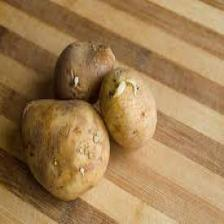Bud: (68, 69, 85, 90), (82, 142, 96, 161), (116, 75, 127, 97), (129, 76, 141, 96), (90, 45, 106, 55), (50, 157, 60, 170), (93, 134, 102, 144), (79, 166, 86, 177)
Sprouted potato: (20, 98, 112, 200), (103, 66, 156, 148), (52, 43, 114, 104)
